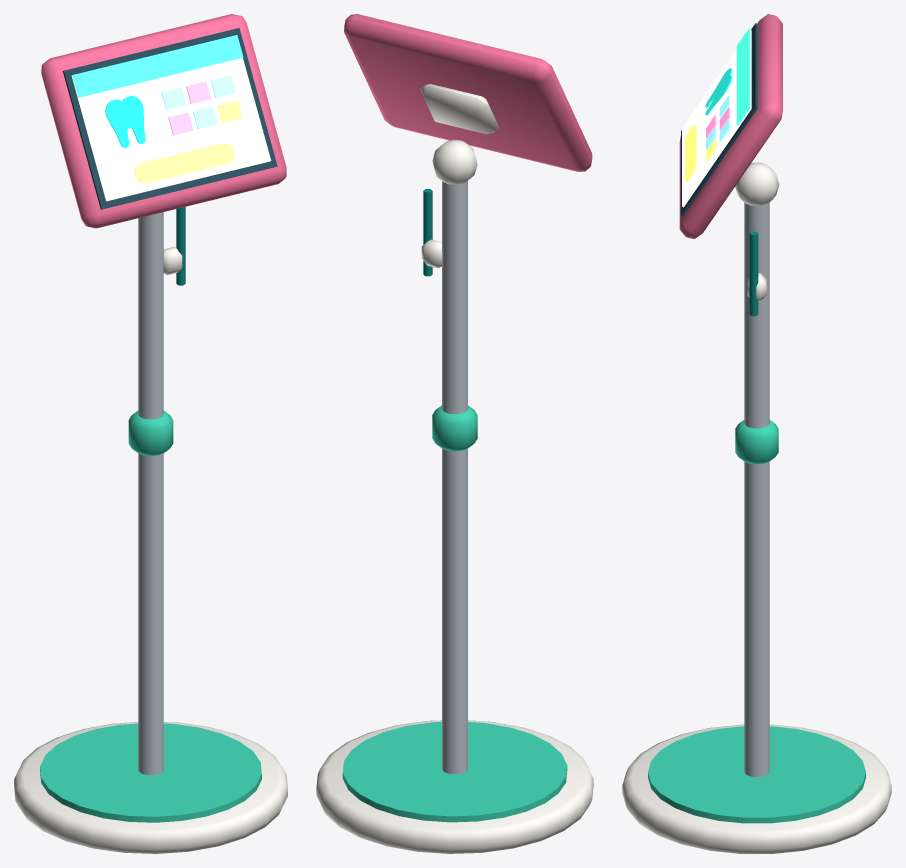
The model's file is patient_tablet.glb.
The picture shows the model from 3 angles, left to right: view 1: azimuth 30°, elevation 25°; view 2: azimuth 150°, elevation 25°; view 3: azimuth 270°, elevation 25°; orthographic projection. The views are drawn at different scales.
Parts seen in each view (by area): view 1: PatientTablet; view 2: PatientTablet; view 3: PatientTablet.
Boxes of the visible parts, <box> form: PatientTablet: <box>14,14,287,853</box>; PatientTablet: <box>316,14,593,853</box>; PatientTablet: <box>622,14,891,853</box>.
Bounding box in the file's own units: 0.4169 × 1.28 × 0.42.
